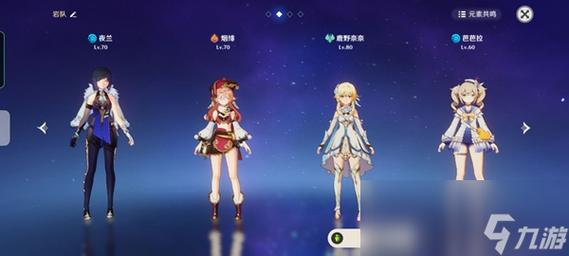夜兰: (65, 66, 137, 220)
